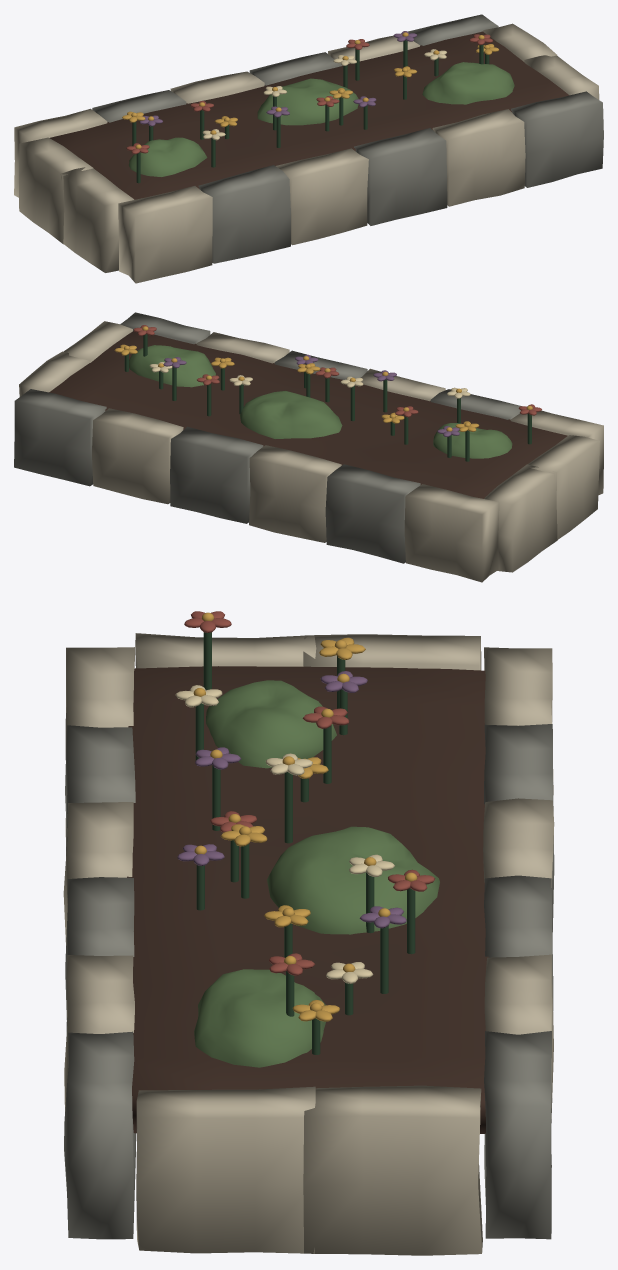
Rendered from detail_flower_bed.glb.
3 renders of one model, top to bottom at view 1: azimuth 30°, elevation 25°; view 2: azimuth 150°, elevation 25°; view 3: azimuth 270°, elevation 25°, orthographic. The views are drawn at different scales.
Parts seen in each view (by area): view 1: plaster; view 2: plaster; view 3: plaster.
Part boxes in pixels (left/top/right/bottom): plaster: left=14, top=14, right=603, bottom=283; plaster: left=14, top=312, right=603, bottom=582; plaster: left=63, top=611, right=554, bottom=1255.
Size of the model in its own units: 2.8 by 0.6 by 1.2.
